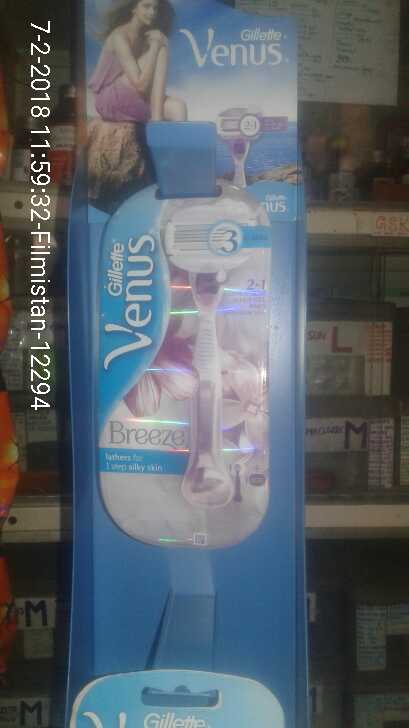venus: (88, 177, 282, 557)
